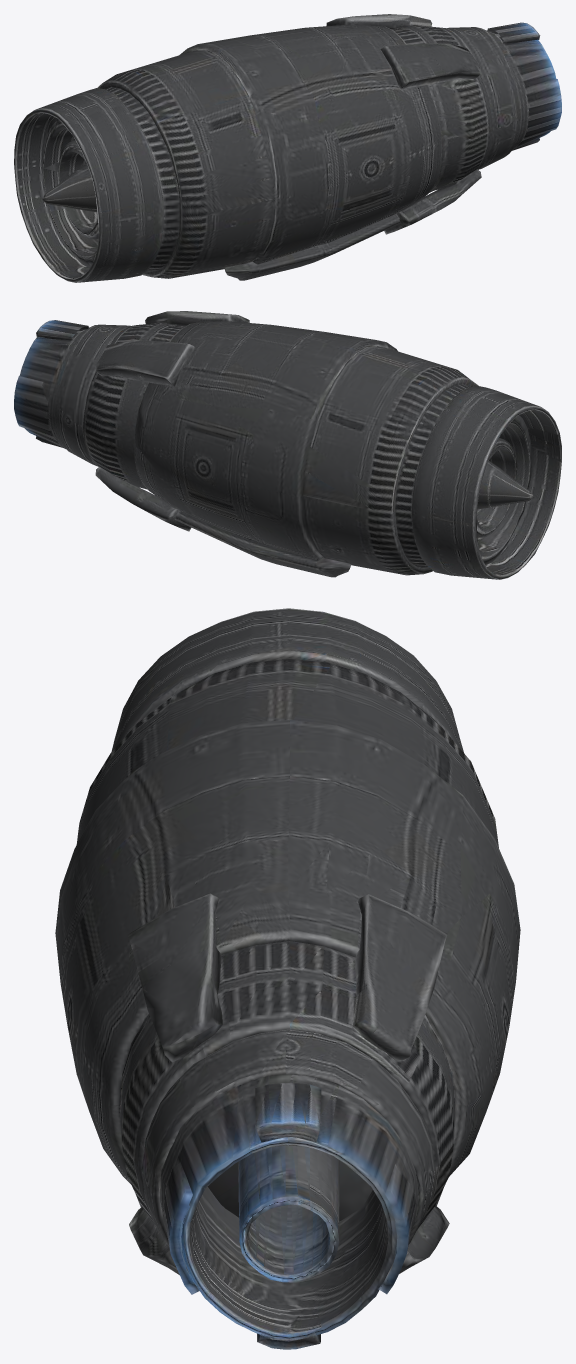
The model's file is wpn_booster.glb.
3 views of the same model, one above another, from view 1: azimuth 30°, elevation 25°; view 2: azimuth 150°, elevation 25°; view 3: azimuth 270°, elevation 25° (orthographic). The views are drawn at different scales.
Bounding box in the file's own units: 1 × 0.4164 × 0.4114.
1 material, 1 textured.
